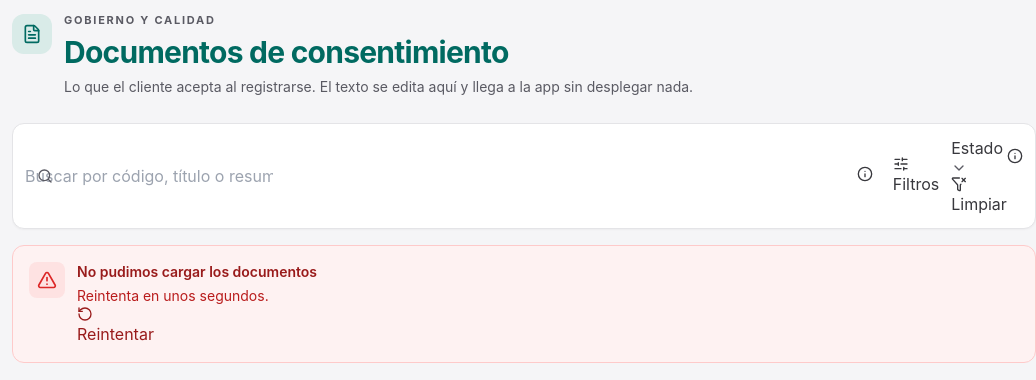
Test case: ConsentDocumentsPage › si la carga falla ofrece reintentar, y reintentar vuelve a pedir la lista
Click the button "Reintentar": [115, 326] box [77, 306, 154, 346]
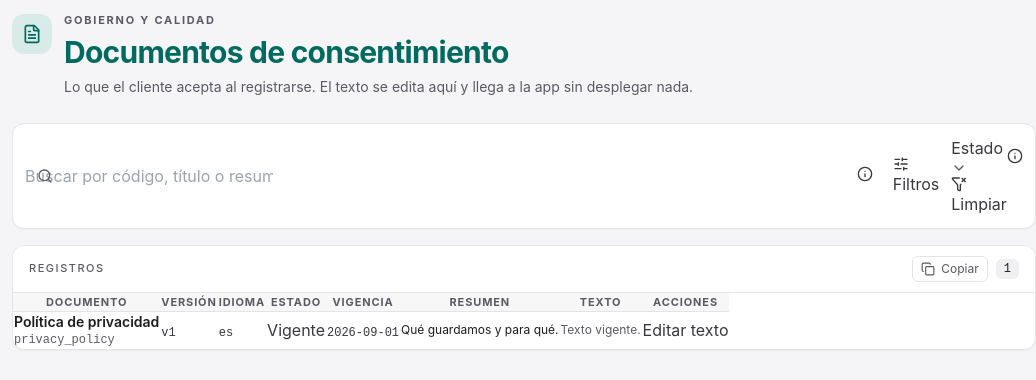
Now the text "Política de privacidad" is shown, box [14, 312, 159, 332]
